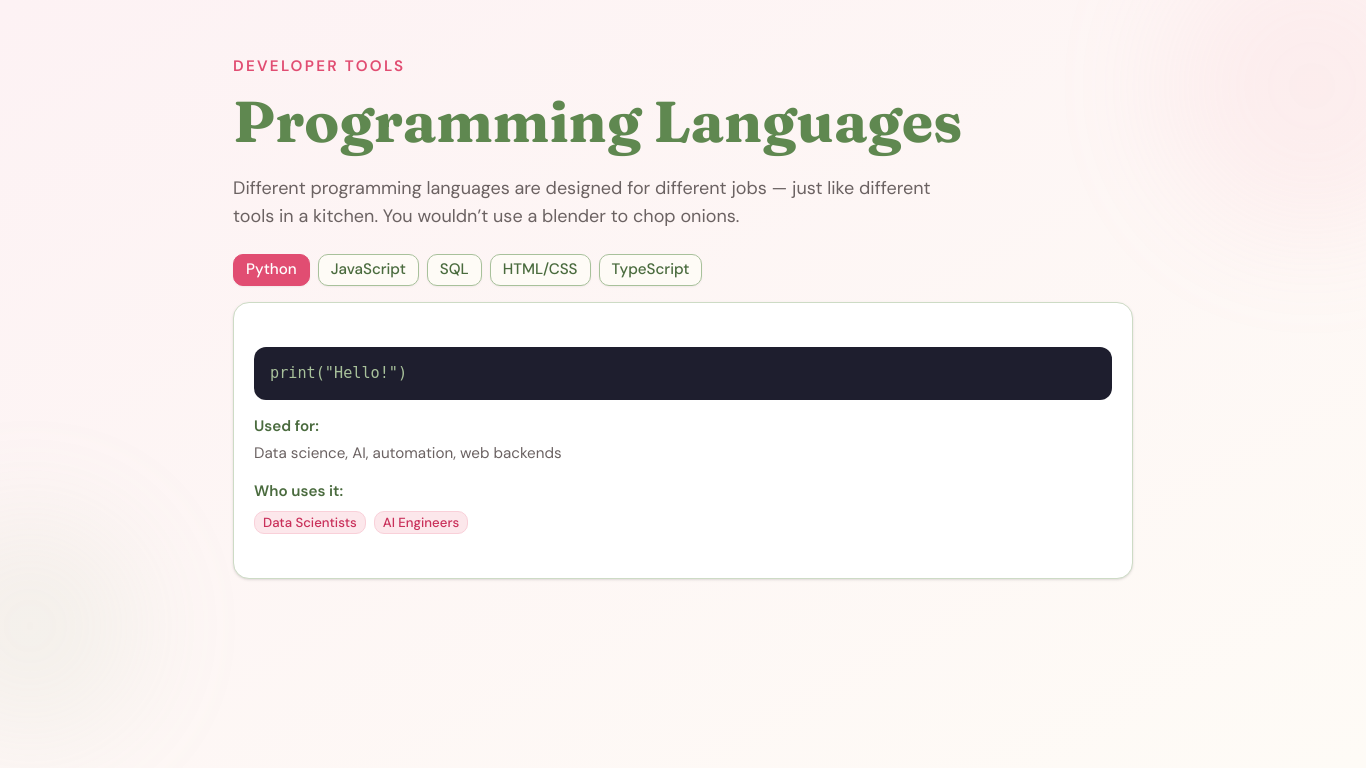
Scenario: LanguagesSlide › switches to JavaScript content when that tab is clicked
Click the button "JavaScript". click: (368, 270)
box: left=318, top=254, right=419, bottom=286
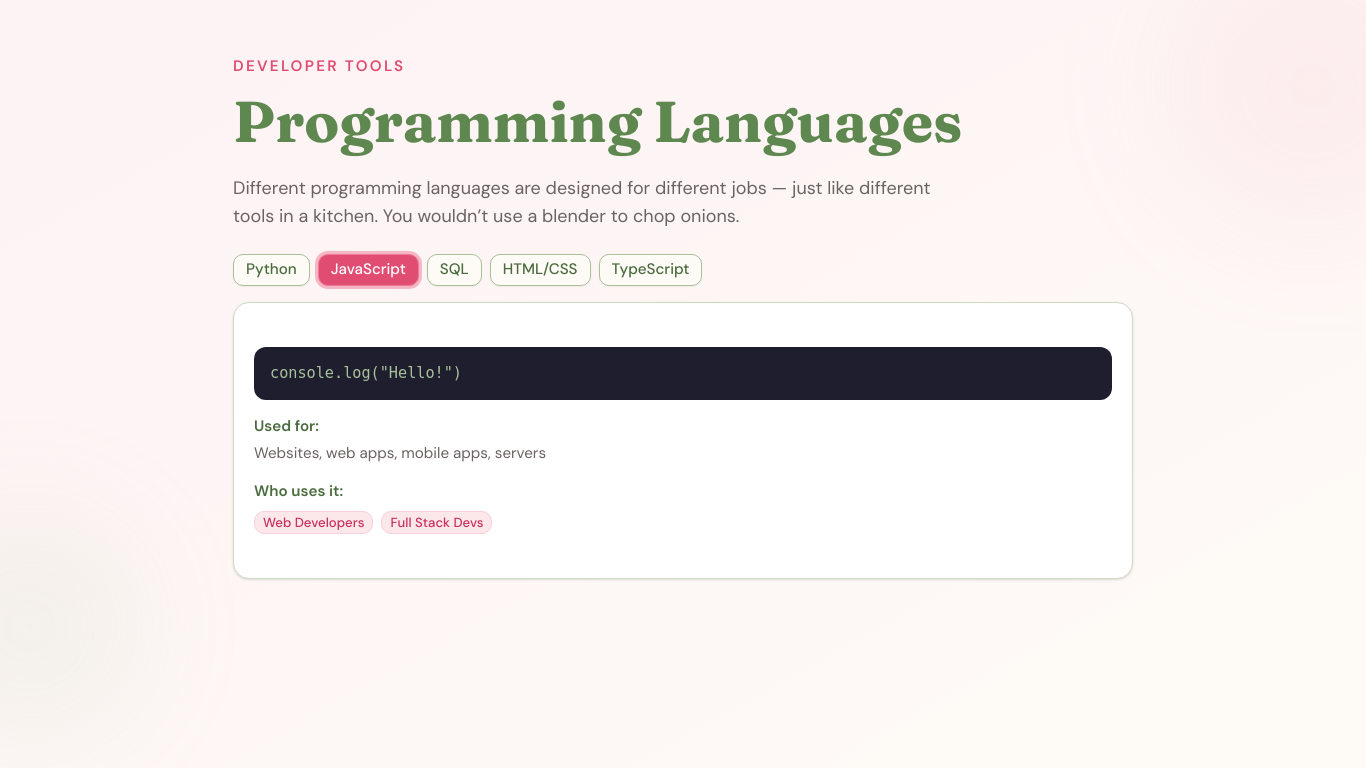
Expected: the text with test id "code-display" reads "console.log(\"Hello!\")", left=270, top=364, right=462, bottom=382
Expected: the text "Websites, web apps, mobile apps, servers" is shown, left=254, top=443, right=546, bottom=463
Expected: the text "Web Developers" is shown, left=254, top=511, right=373, bottom=534
